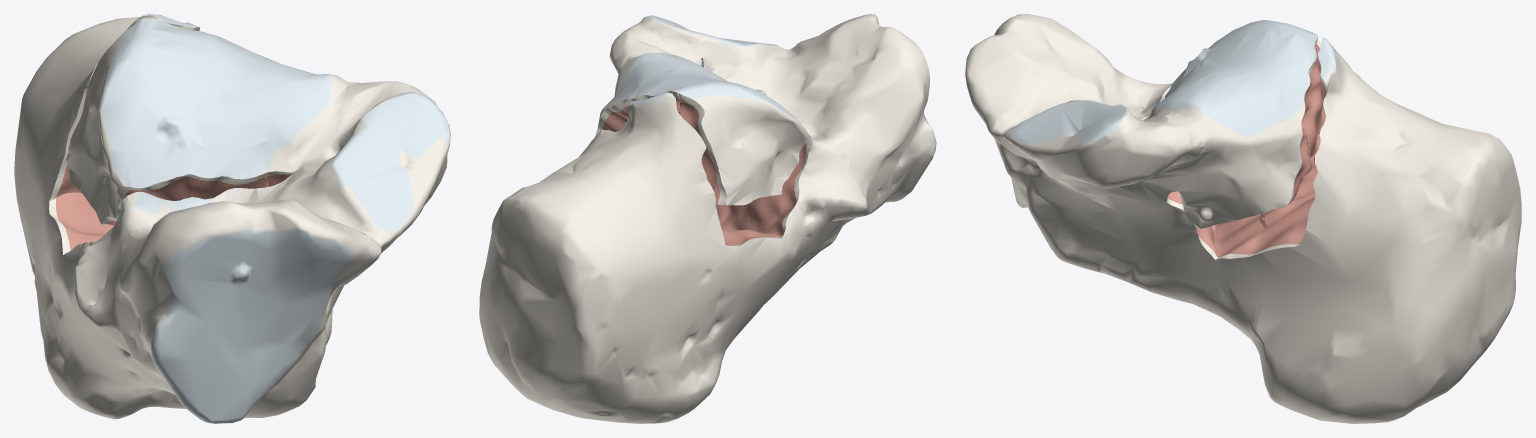
File: S-IV_young.glb
The picture shows the model from 3 angles, left to right: view 1: azimuth 30°, elevation 25°; view 2: azimuth 150°, elevation 25°; view 3: azimuth 270°, elevation 25°; orthographic projection. The views are drawn at different scales.
Visible parts, largest first — view 1: calcaneus: sustentacular fragment, calcaneus: tuberosity, calcaneus: lateral joint fragment, calcaneus: medial joint fragment, calcaneus: central joint fragment 2, calcaneus: central joint fragment 1; view 2: calcaneus: tuberosity, calcaneus: sustentacular fragment, calcaneus: lateral joint fragment, calcaneus: medial joint fragment, calcaneus: central joint fragment 1; view 3: calcaneus: tuberosity, calcaneus: sustentacular fragment, calcaneus: medial joint fragment, calcaneus: central joint fragment 1, calcaneus: lateral joint fragment.
Part boxes in pixels (left/top/right/bottom): calcaneus: sustentacular fragment: left=89, top=81, right=450, bottom=423; calcaneus: tuberosity: left=14, top=14, right=332, bottom=419; calcaneus: lateral joint fragment: left=66, top=20, right=206, bottom=225; calcaneus: medial joint fragment: left=225, top=39, right=361, bottom=186; calcaneus: central joint fragment 2: left=172, top=92, right=268, bottom=199; calcaneus: central joint fragment 1: left=141, top=18, right=253, bottom=100; calcaneus: tuberosity: left=479, top=63, right=867, bottom=423; calcaneus: sustentacular fragment: left=609, top=14, right=936, bottom=254; calcaneus: lateral joint fragment: left=678, top=80, right=808, bottom=205; calcaneus: medial joint fragment: left=595, top=35, right=726, bottom=135; calcaneus: central joint fragment 1: left=625, top=68, right=728, bottom=120; calcaneus: tuberosity: left=1097, top=37, right=1521, bottom=423; calcaneus: sustentacular fragment: left=965, top=14, right=1202, bottom=273; calcaneus: medial joint fragment: left=1143, top=75, right=1311, bottom=228; calcaneus: central joint fragment 1: left=1196, top=33, right=1325, bottom=168; calcaneus: lateral joint fragment: left=1167, top=20, right=1321, bottom=92.
Size of the model in its own units: 0.0475 by 0.0513 by 0.0757.
